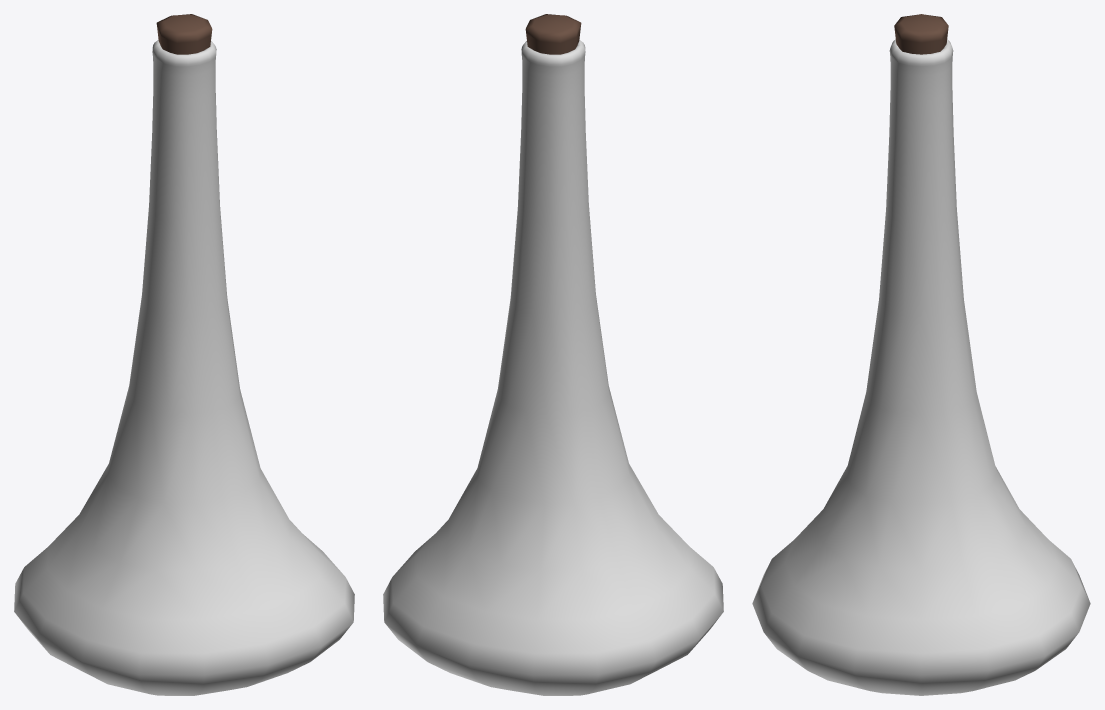
The model's file is potion7_filled.glb.
3 renders of one model, left to right at view 1: azimuth 30°, elevation 25°; view 2: azimuth 150°, elevation 25°; view 3: azimuth 270°, elevation 25°, orthographic.
Visible parts, largest first — view 1: Potion7_Filled; view 2: Potion7_Filled; view 3: Potion7_Filled.
Part boxes in pixels (box(x1,y1,x2,y2)): Potion7_Filled: box(14, 14, 354, 695); Potion7_Filled: box(383, 14, 723, 695); Potion7_Filled: box(752, 14, 1090, 695).
Size of the model in its own units: 0.7035 by 1.51 by 0.7035.
